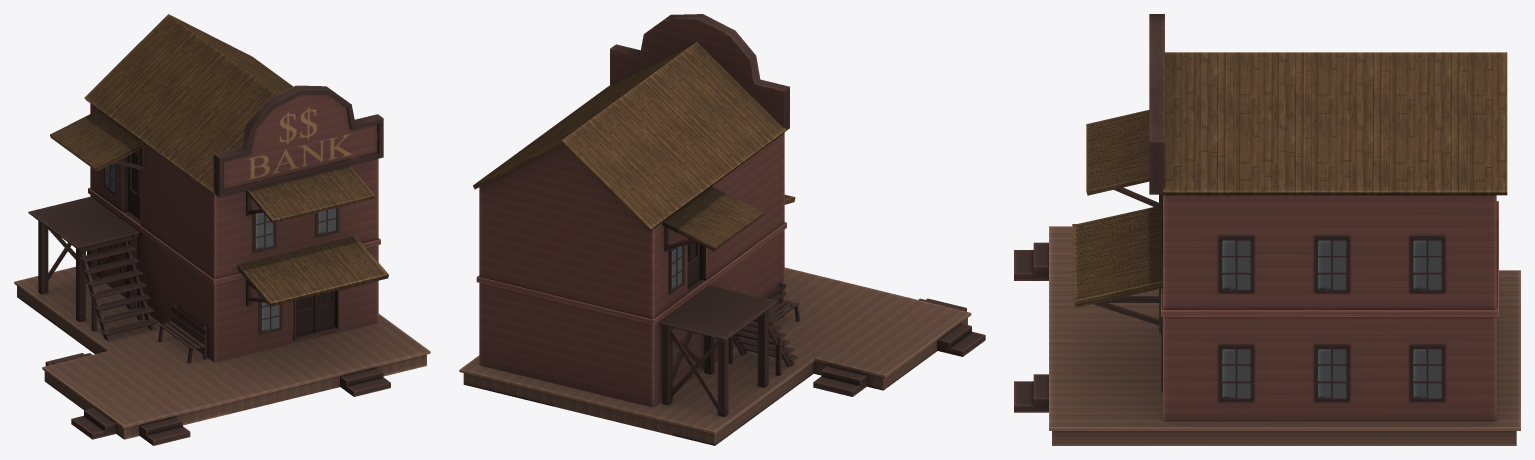
Rendered from Bank.fbx.
3 views of the same model, side by side, from view 1: azimuth 30°, elevation 25°; view 2: azimuth 150°, elevation 25°; view 3: azimuth 270°, elevation 25° (orthographic). The views are drawn at different scales.
Parts seen in each view (by area): view 1: Building_9; view 2: Building_9; view 3: Building_9.
Part boxes in pixels (<box>): Building_9: <box>14,14,430,445</box>; Building_9: <box>459,14,985,445</box>; Building_9: <box>1014,14,1520,445</box>.
Size of the model in its own units: 333 by 262 by 330.
